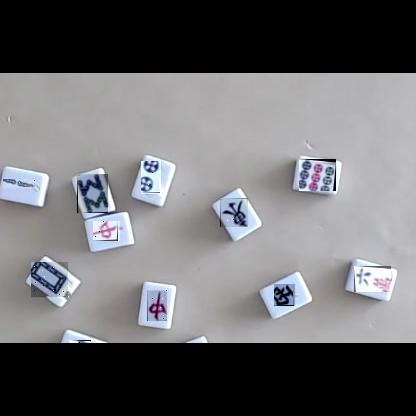1z: (220, 198, 248, 227)
2p: (142, 162, 165, 198)
2s: (4, 180, 40, 192)
3z: (275, 284, 299, 306), (69, 340, 91, 343)
5z: (32, 263, 72, 301)
6m: (354, 266, 391, 292)
7z: (147, 290, 167, 321), (94, 221, 123, 241)
8s: (77, 174, 108, 213)
9p: (299, 159, 336, 191)
